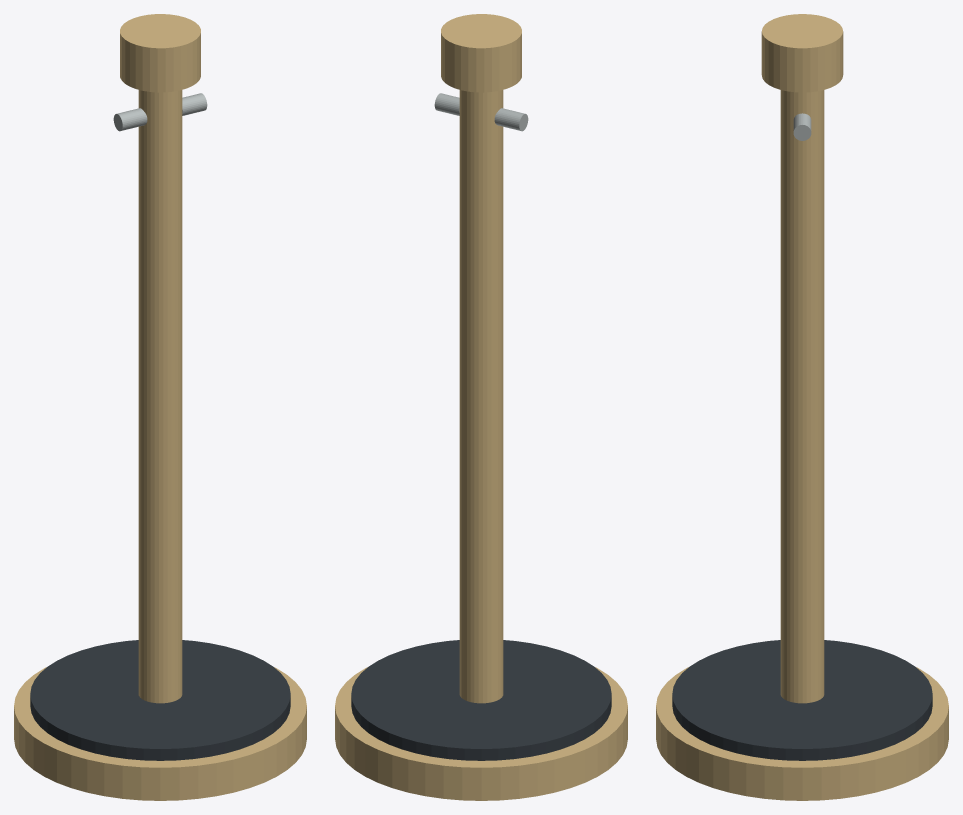
File: abandoned-cinema-and-projection-booth-abandoned-cinema-52630327__29691.glb
The picture shows the model from 3 angles, left to right: view 1: azimuth 30°, elevation 25°; view 2: azimuth 150°, elevation 25°; view 3: azimuth 270°, elevation 25°; orthographic projection.
Visible parts, largest first — view 1: abandoned-cinema-and-projection-booth-queue-stanchion; view 2: abandoned-cinema-and-projection-booth-queue-stanchion; view 3: abandoned-cinema-and-projection-booth-queue-stanchion.
Boxes of the visible parts, x1=… form: abandoned-cinema-and-projection-booth-queue-stanchion: x1=14, y1=14, x2=306, y2=800; abandoned-cinema-and-projection-booth-queue-stanchion: x1=335, y1=14, x2=627, y2=800; abandoned-cinema-and-projection-booth-queue-stanchion: x1=656, y1=14, x2=948, y2=800.
Size of the model in its own units: 0.36 by 0.96 by 0.36.
